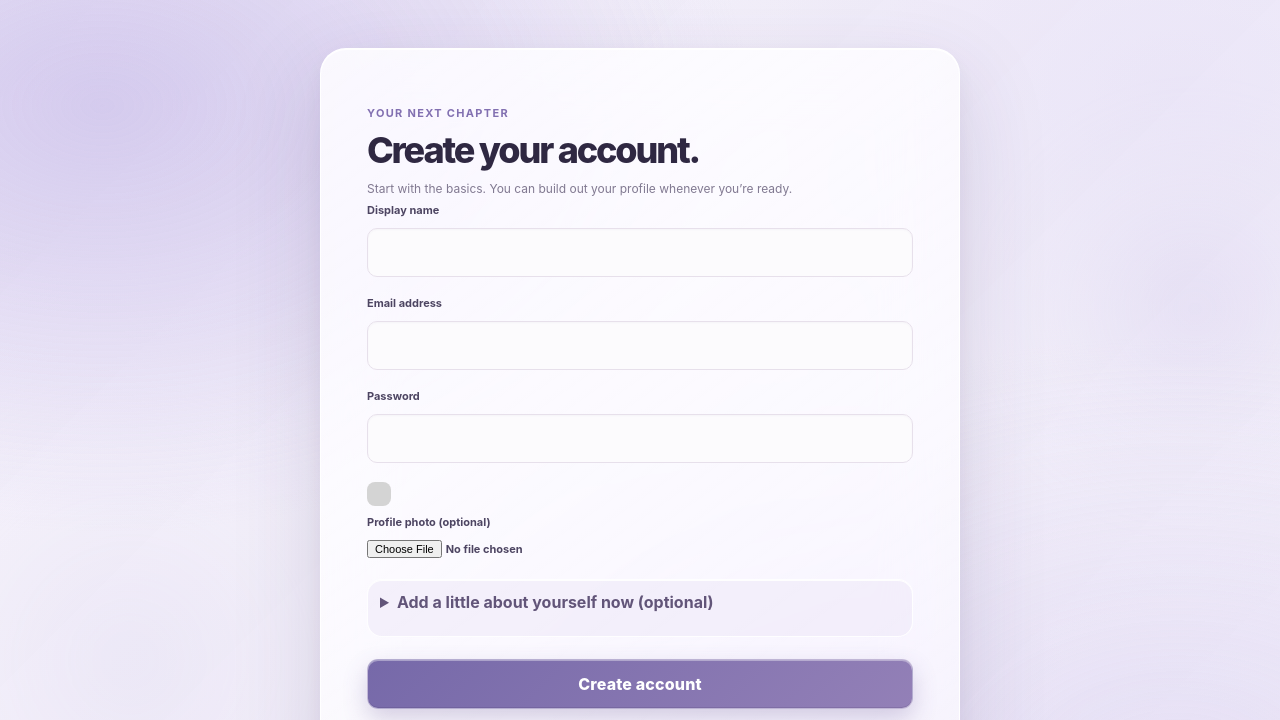
Test case: Register with Supabase Auth › does not ask the user to register again when profile saving fails after Auth account creation
Type "Test Member" into the field labelled "Display name" at (640, 253), box [367, 228, 913, 277]
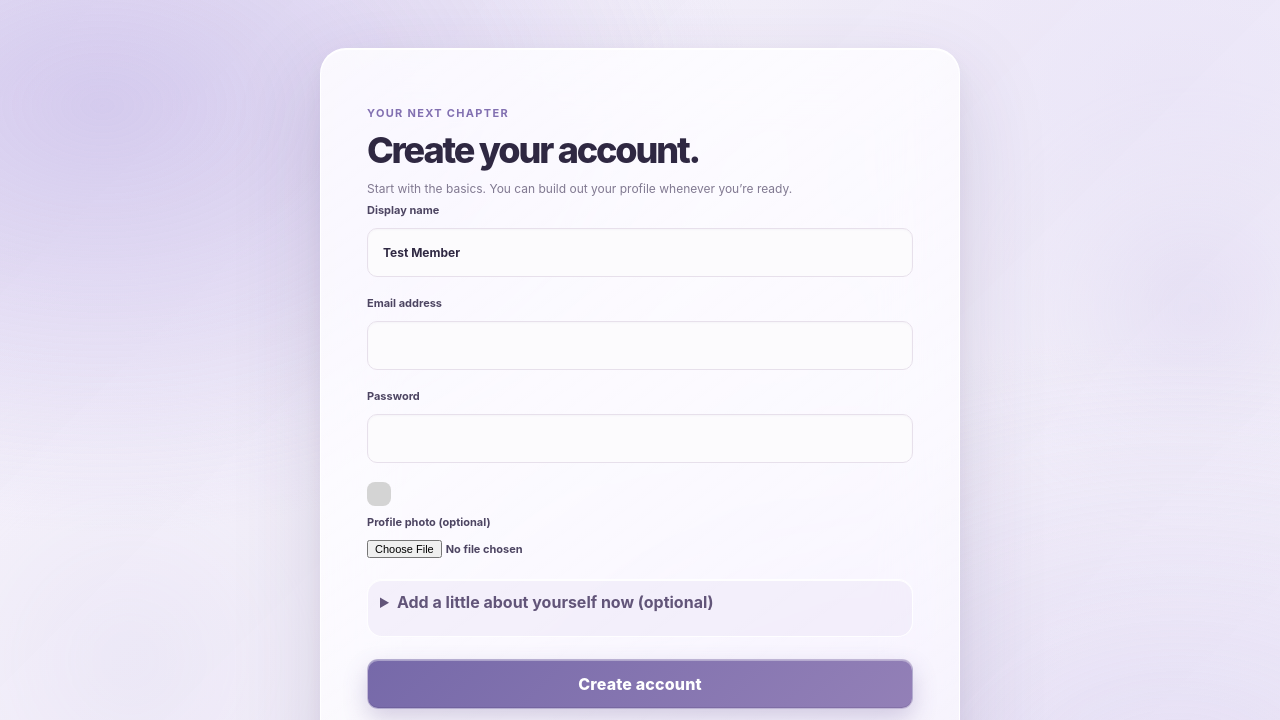
Type "new-member@example.com" into the field labelled "Email address" at (640, 346), box [367, 321, 913, 370]
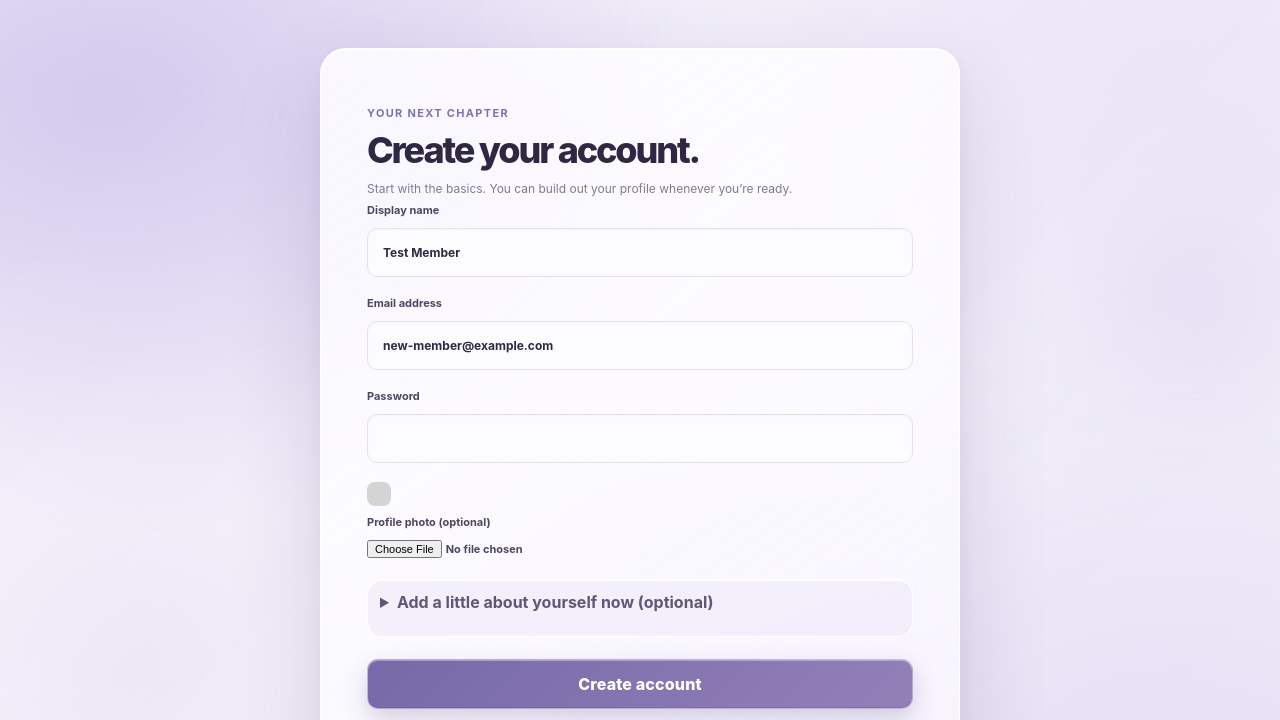
Type "correct-horse-battery" into the password field labelled "Password" at (640, 439), box [367, 414, 913, 463]
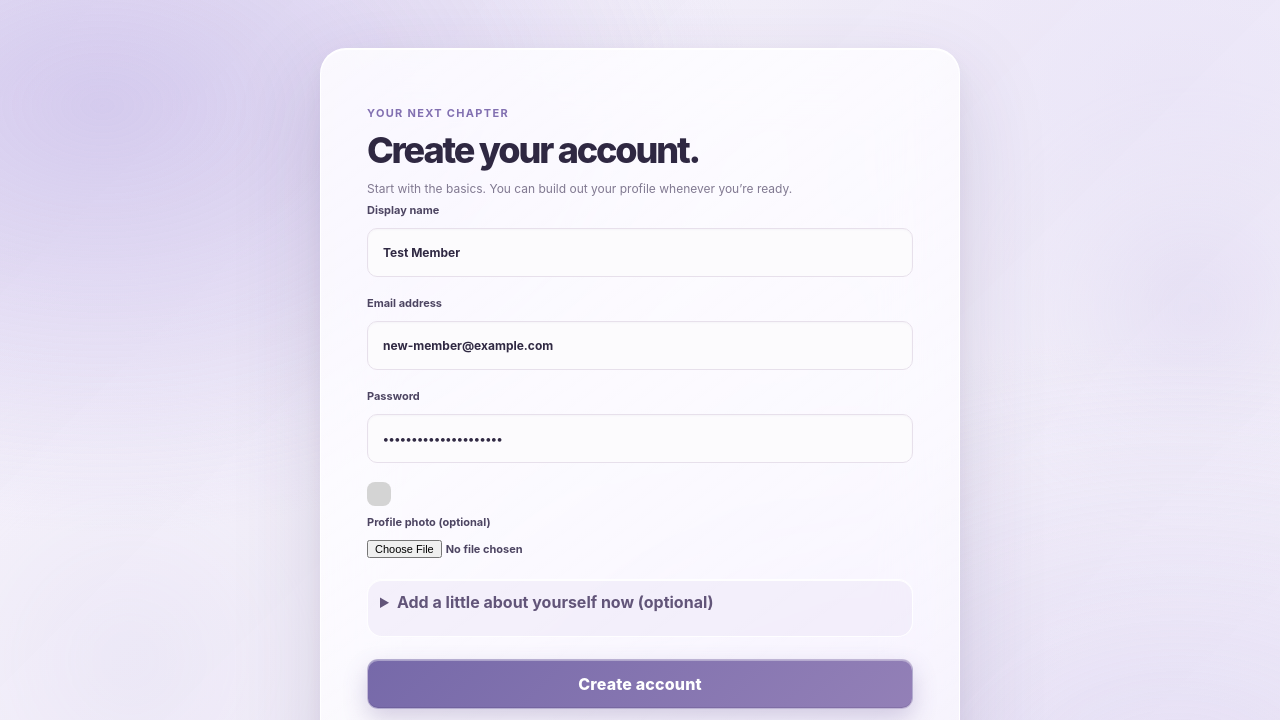
Click the button "Create account" at (640, 684), box [367, 659, 913, 709]
(page scrolled)
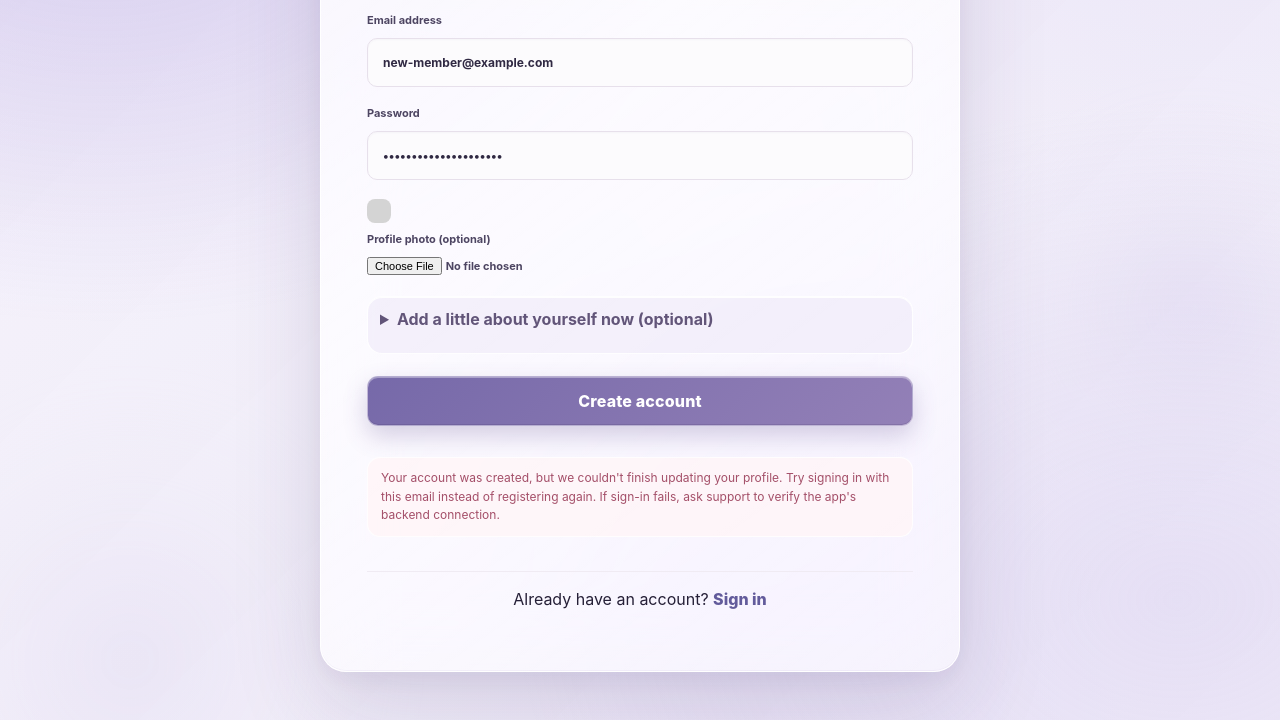
Now the message shows "Your account was created, but we couldn't finish updating your profile", box [381, 470, 889, 522]
